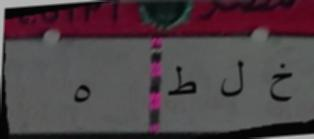5: (68, 74, 99, 115)
Taa: (166, 62, 197, 106)
khaa: (267, 61, 295, 110)
laam: (215, 54, 251, 103)
